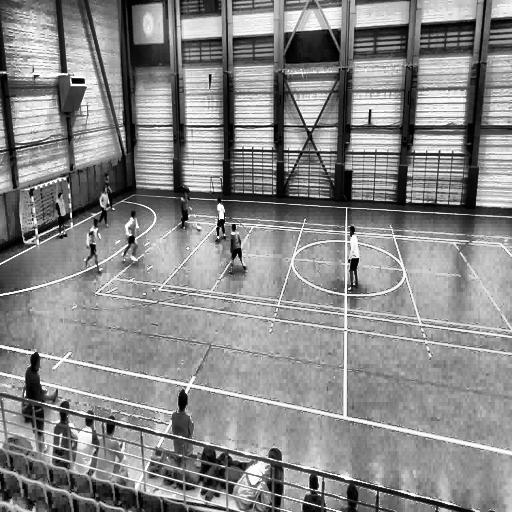ball: (196, 222, 201, 235)
player: (22, 353, 56, 453), (345, 223, 359, 292), (122, 211, 139, 264), (86, 218, 102, 272), (229, 222, 245, 273), (97, 186, 111, 230), (56, 192, 68, 240), (215, 195, 227, 241), (104, 174, 117, 214), (179, 189, 191, 231)
